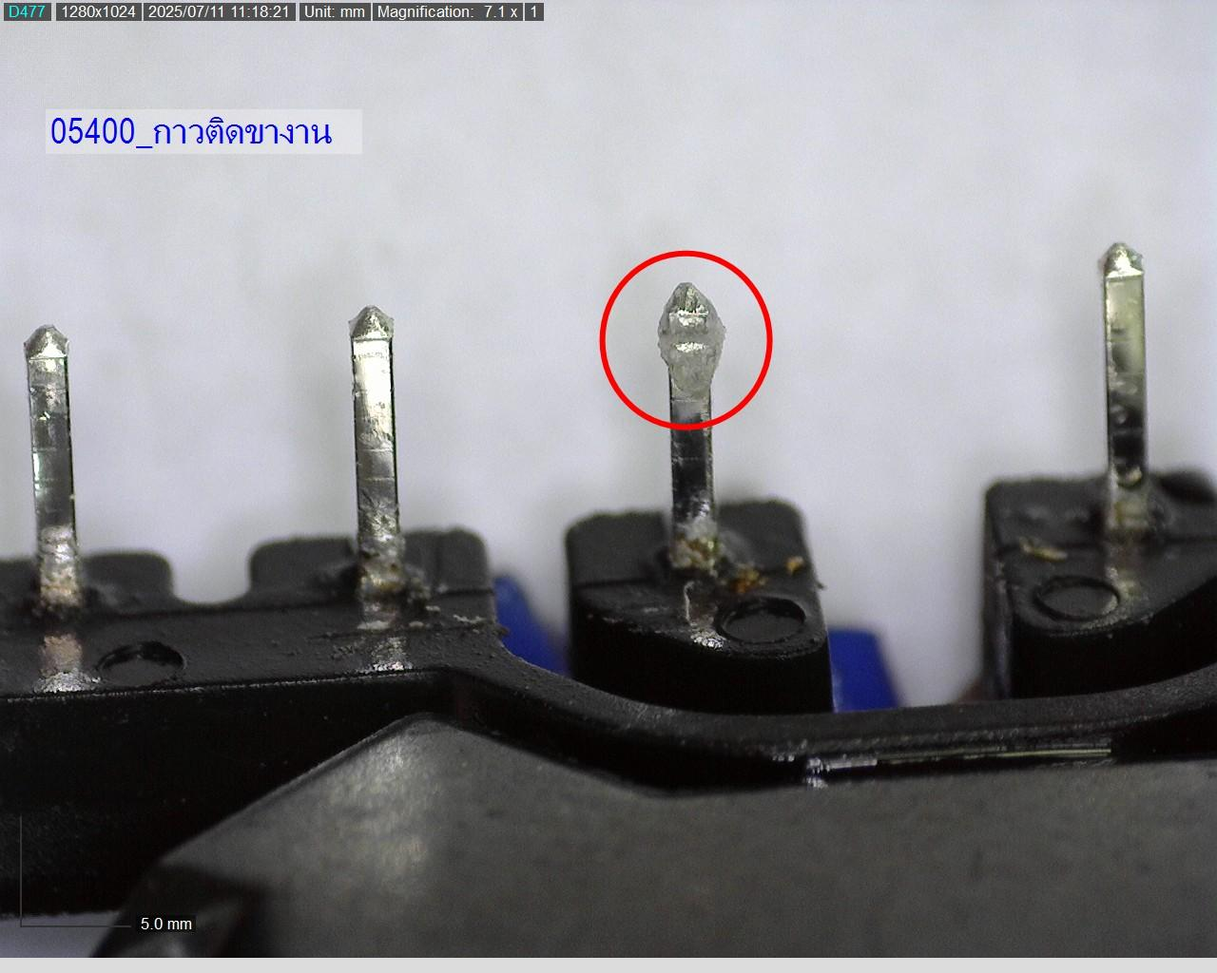glue: (638, 279, 729, 412)
